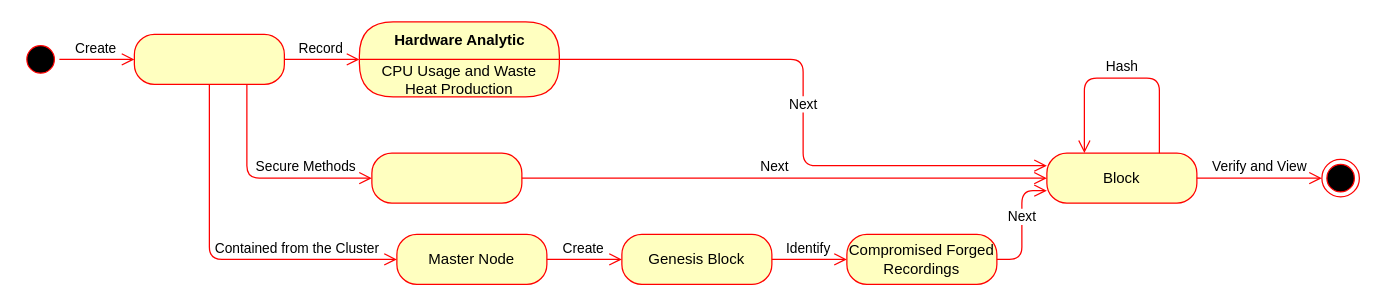
This 1381x306 diagram has some shape labels left out. The centre of each missing label's shape, as x and y in pixels:
Data: (446,177)
Distributed Ledger: (208,58)
